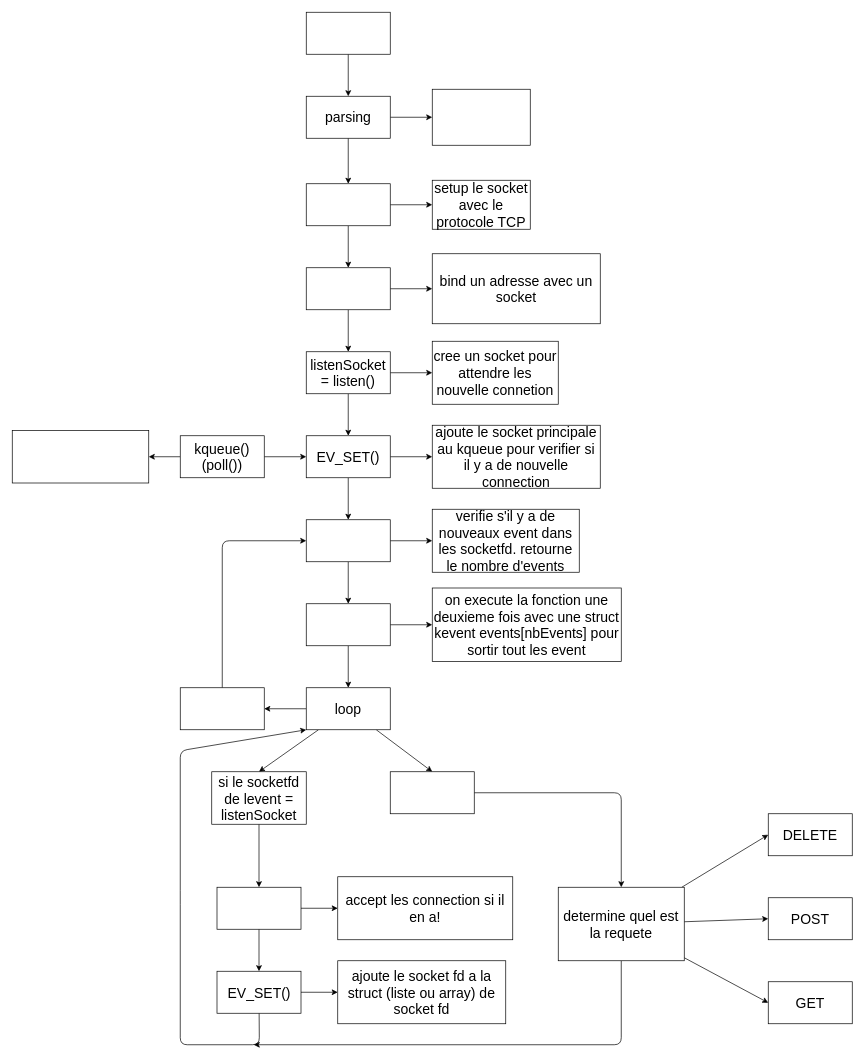
This 865x1063 diagram has some shape labels left out. The centre of each missing label's shape, as x and y in pixels:
"accept()" goes at point (258, 908).
"bind()" goes at point (348, 288).
"demarre le process kernel pour verifier les nouveau event" goes at point (80, 456).
"else" goes at point (432, 792).
"kevent()" goes at point (348, 540).
"loop end" goes at point (222, 708).
"Main()" goes at point (348, 33).
"nbEvent = kevent()" goes at point (348, 624).
"parse the configuration file" goes at point (481, 117).
"socket()" goes at point (348, 204).
